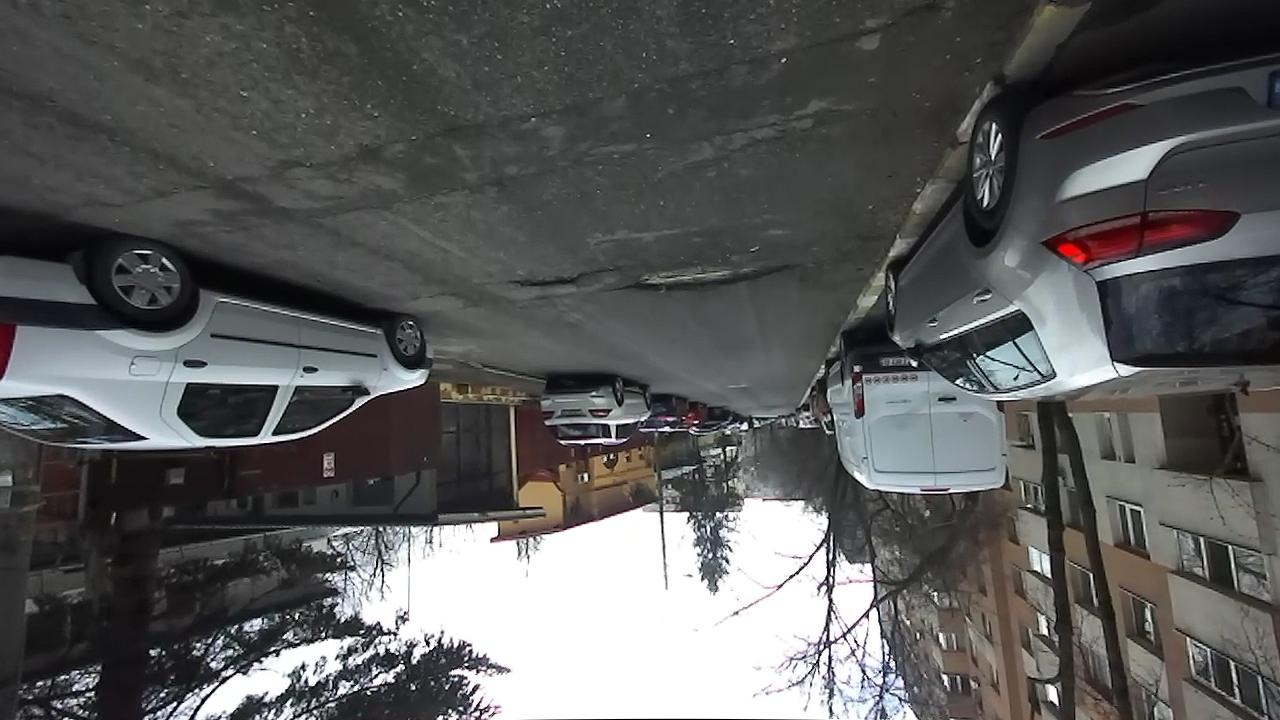pothole: (619, 253, 796, 294), (505, 267, 594, 291)
